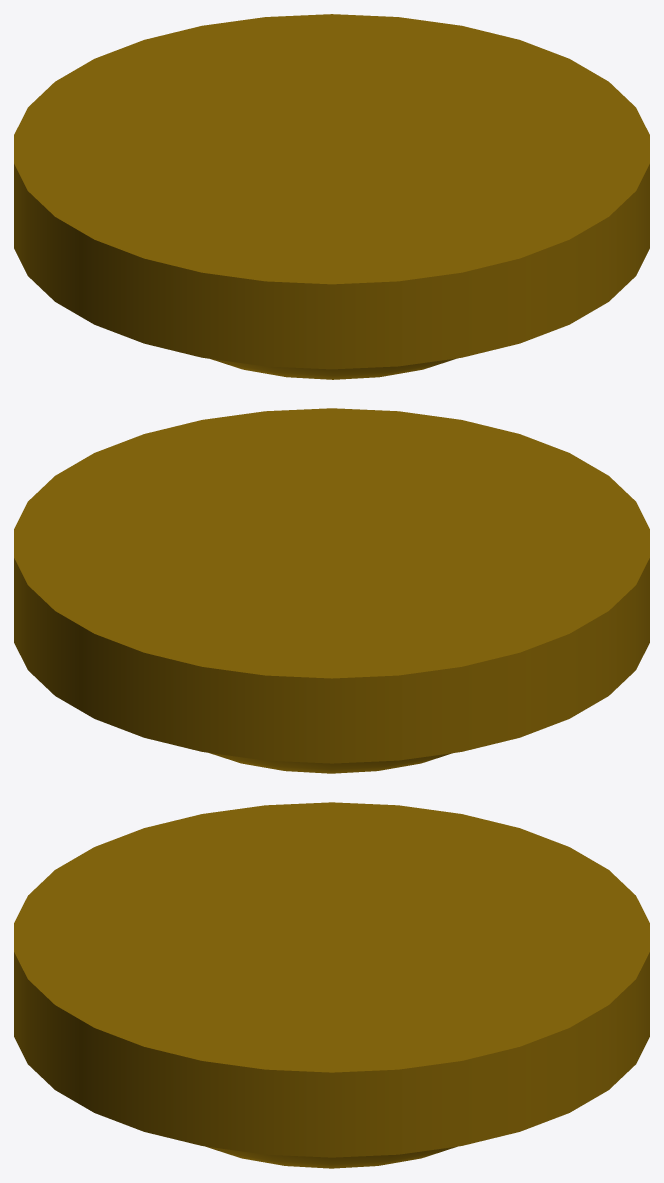
The model's file is Lamp_08.fbx.
3 views of the same model, one above another, from view 1: azimuth 30°, elevation 25°; view 2: azimuth 150°, elevation 25°; view 3: azimuth 270°, elevation 25° (orthographic).
Parts seen in each view (by area): view 1: Lamp_08; view 2: Lamp_08; view 3: Lamp_08.
Part boxes in pixels (x1,y1,x2,y2): Lamp_08: [14, 14, 649, 379]; Lamp_08: [14, 408, 649, 773]; Lamp_08: [14, 802, 649, 1168].
Bounding box in the file's own units: 50.71 × 16.21 × 50.44.
